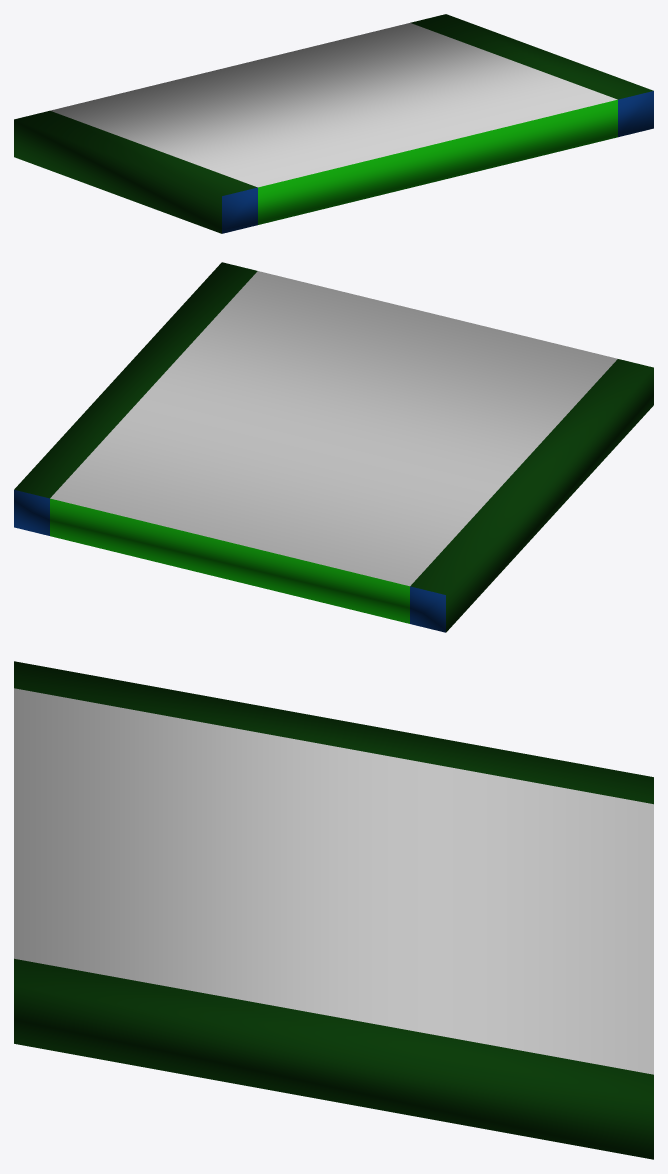
The picture shows the model from 3 angles, top to bottom: view 1: azimuth 30°, elevation 25°; view 2: azimuth 150°, elevation 25°; view 3: azimuth 270°, elevation 25°; orthographic projection. The views are drawn at different scales.
Parts seen in each view (by area): view 1: Mesh; view 2: Mesh; view 3: Mesh.
Boxes of the visible parts, bbox=[...] form: Mesh: bbox=[14, 14, 653, 233]; Mesh: bbox=[14, 262, 653, 632]; Mesh: bbox=[14, 661, 653, 1159].
Size of the model in its own units: 12000 by 3000 by 10000.
